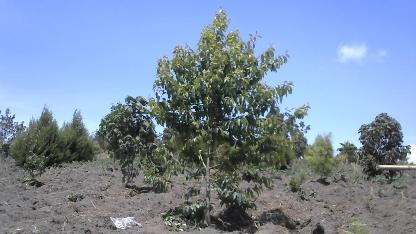tree: (152, 5, 310, 224), (12, 101, 95, 181), (355, 110, 416, 189)
